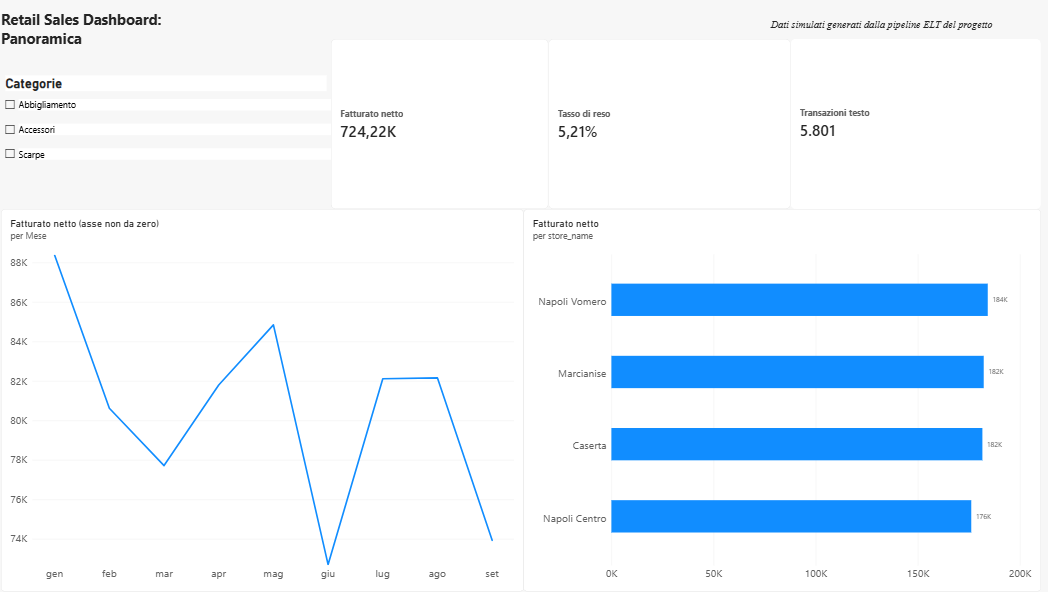

This screenshot's page, from the dashboard's own definition file:
{"tool":"powerbi","page":{"name":"Panoramica","canvas":[1920,1080],"ordinal":0},"visuals":[{"type":"cardVisual","fields":{"Data":["fact_sales.Fatturato netto"]},"box":[609.1,72.7,395.5,309.1],"z":0},{"type":"cardVisual","fields":{"Data":["fact_sales.Tasso di reso"]},"box":[1004.5,72.7,440.9,309.1],"z":1000},{"type":"lineChart","fields":{"Category":["Calendario.Mese"],"Y":["fact_sales.Fatturato netto"]},"box":[9.1,381.8,950,697.7],"z":2000},{"type":"barChart","fields":{"Category":["dim_store.store_name"],"Y":["fact_sales.Fatturato netto"]},"box":[959.1,381.8,940.9,697.7],"z":3000},{"type":"cardVisual","fields":{"Data":["fact_sales.Transazioni testo"]},"box":[1445.5,72.7,454.5,309.1],"z":4000},{"type":"slicer","fields":{"Values":["dim_product.category"]},"box":[9.1,138.6,600,179.5],"z":5000},{"type":"textbox","box":[9.1,18.2,445.5,75],"z":8000},{"type":"textbox","box":[1300,36.4,620.5,38.6],"z":8001}]}

Visuals, with their boxes in screenshot pixels (x1, y1, x2, y2), scaled from the page's 1920x1080 canvas onto the 1048x592 screenshot:
cardVisual - fact_sales.Fatturato netto: <bbox>332, 40, 548, 209</bbox>
cardVisual - fact_sales.Tasso di reso: <bbox>548, 40, 789, 209</bbox>
lineChart - Calendario.Mese x fact_sales.Fatturato netto: <bbox>5, 209, 524, 591</bbox>
barChart - dim_store.store_name x fact_sales.Fatturato netto: <bbox>524, 209, 1037, 591</bbox>
cardVisual - fact_sales.Transazioni testo: <bbox>789, 40, 1037, 209</bbox>
slicer - dim_product.category: <bbox>5, 76, 332, 174</bbox>
textbox: <bbox>5, 10, 248, 51</bbox>
textbox: <bbox>710, 20, 1047, 41</bbox>
